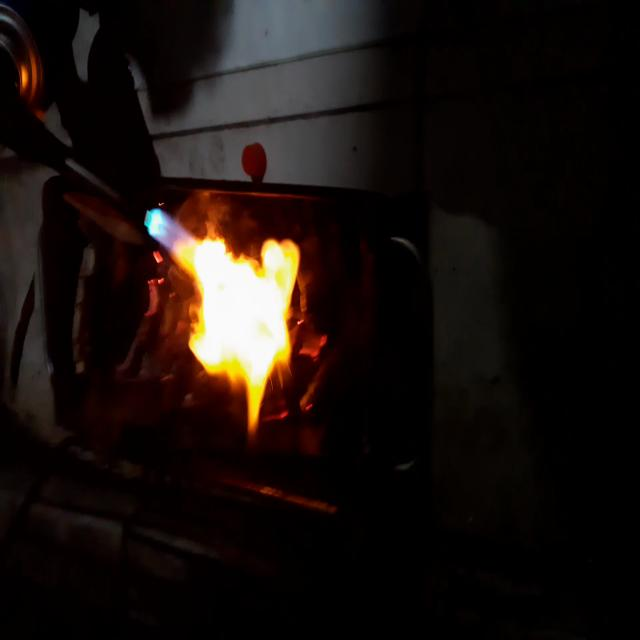Fire: (144, 190, 303, 443)
